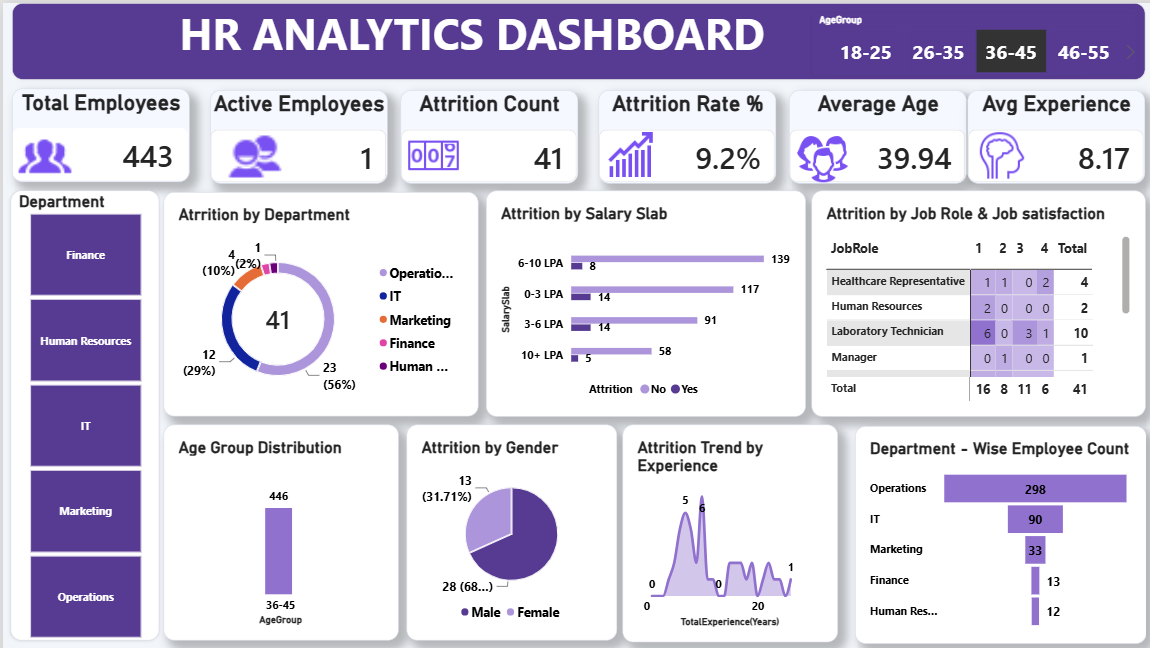

This screenshot's page, from the dashboard's own definition file:
{"tool":"powerbi","page":{"name":"Page 1","canvas":[1920,1080],"ordinal":0},"visuals":[{"type":"textbox","box":[10,0,1259,85],"z":0},{"type":"cardVisual","title":"Total Employees","fields":{"Data":["Count(HR_Analytics-4.EmpID)"]},"box":[10,95,197,104],"z":1000},{"type":"cardVisual","title":"Active Employees","fields":{"Data":["Count(HR_Analytics-4.EmployeeCount)"]},"box":[230,96,197,104],"z":2000},{"type":"cardVisual","title":"Attrition Count","fields":{"Data":["Sum(HR_Analytics-4.AtrritionCount)"]},"box":[442,96,197,104],"z":3000},{"type":"cardVisual","title":"Attrition Rate %","fields":{"Data":["HR_Analytics-4.Attrition Rate %"]},"box":[662,96,197,104],"z":4000},{"type":"cardVisual","title":"Average Age","fields":{"Data":["Avg(HR_Analytics-4.Age)"]},"box":[874,96,197,104],"z":5000},{"type":"cardVisual","title":"Avg Experience","fields":{"Data":["Avg(HR_Analytics-4.YearsatCompany)"]},"box":[1072,96,197,104],"z":6000},{"type":"image","box":[10,140,73.3,58.3],"z":7000},{"type":"image","box":[1072.5,140,73.3,58.3],"z":8000},{"type":"image","box":[243.3,140,73.3,58.3],"z":9000},{"type":"image","box":[662.5,142.5,66.7,50],"z":10000},{"type":"image","box":[875,142.5,73.3,58.3],"z":11000},{"type":"image","box":[441.7,140,73.3,58.3],"z":12000},{"type":"donutChart","title":"Atrrition by Department","fields":{"Category":["HR_Analytics-4.Department"],"Y":["Sum(HR_Analytics-4.AtrritionCount)"]},"box":[179,210,350,249],"z":13000},{"type":"clusteredBarChart","title":"Attrition by Salary Slab","fields":{"Category":["HR_Analytics-4.SalarySlab"],"Series":["HR_Analytics-4.Attrition"],"Y":["CountNonNull(HR_Analytics-4.EmpID)"]},"box":[537,209,355,251],"z":14000},{"type":"pivotTable","title":"Attrition by Job Role & Job satisfaction","fields":{"Columns":["HR_Analytics-4.JobSatisfaction"],"Rows":["HR_Analytics-4.JobRole"],"Values":["Sum(HR_Analytics-4.AtrritionCount)"]},"box":[898,209,371,251],"z":15000},{"type":"columnChart","title":"Age Group Distribution","fields":{"Category":["HR_Analytics-4.AgeGroup"],"Y":["Sum(HR_Analytics-4.EmployeeCount)"]},"box":[179,469,261,240],"z":16000},{"type":"pieChart","title":"Attrition by Gender","fields":{"Category":["HR_Analytics-4.Gender"],"Y":["Sum(HR_Analytics-4.AtrritionCount)"]},"box":[448,469,234,240],"z":17000},{"type":"areaChart","title":"Attrition Trend by Experience","fields":{"Category":["HR_Analytics-4.TotalExperience(Years)"],"Y2":["Sum(HR_Analytics-4.AtrritionCount)"]},"box":[689,469,239,242],"z":18000},{"type":"funnel","title":"Department - Wise Employee Count","fields":{"Category":["HR_Analytics-4.Department"],"Y":["CountNonNull(HR_Analytics-4.EmpID)"]},"box":[946,470,324,242],"z":19000},{"type":"slicer","fields":{"Values":["HR_Analytics-4.Department"]},"box":[9,209,165,500],"z":20000},{"type":"slicer","fields":{"Values":["HR_Analytics-4.AgeGroup"]},"box":[898,12,361,68],"z":21000}]}

Visuals, with their boxes in screenshot pixels (x1, y1, x2, y2), scaled from the page's 1920x1080 canvas onto the 1150x648 screenshot:
textbox: 6,0,760,51
"Total Employees" cardVisual: 6,57,124,119
"Active Employees" cardVisual: 138,58,256,120
"Attrition Count" cardVisual: 265,58,383,120
"Attrition Rate %" cardVisual: 397,58,515,120
"Average Age" cardVisual: 523,58,641,120
"Avg Experience" cardVisual: 642,58,760,120
image: 6,84,50,119
image: 642,84,686,119
image: 146,84,190,119
image: 397,86,437,116
image: 524,86,568,120
image: 265,84,308,119
"Atrrition by Department" donutChart: 107,126,317,275
"Attrition by Salary Slab" clusteredBarChart: 322,125,534,276
"Attrition by Job Role & Job satisfaction" pivotTable: 538,125,760,276
"Age Group Distribution" columnChart: 107,281,264,425
"Attrition by Gender" pieChart: 268,281,408,425
"Attrition Trend by Experience" areaChart: 413,281,556,427
"Department - Wise Employee Count" funnel: 567,282,761,427
slicer - HR_Analytics-4.Department: 5,125,104,425
slicer - HR_Analytics-4.AgeGroup: 538,7,754,48
